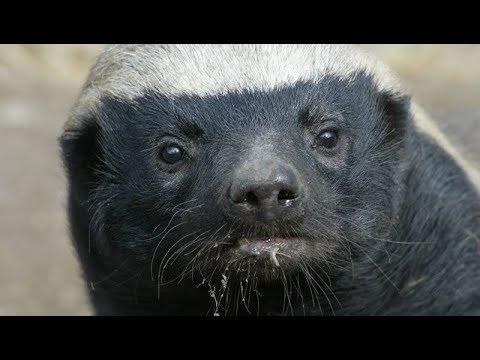badger: (62, 45, 477, 315)
